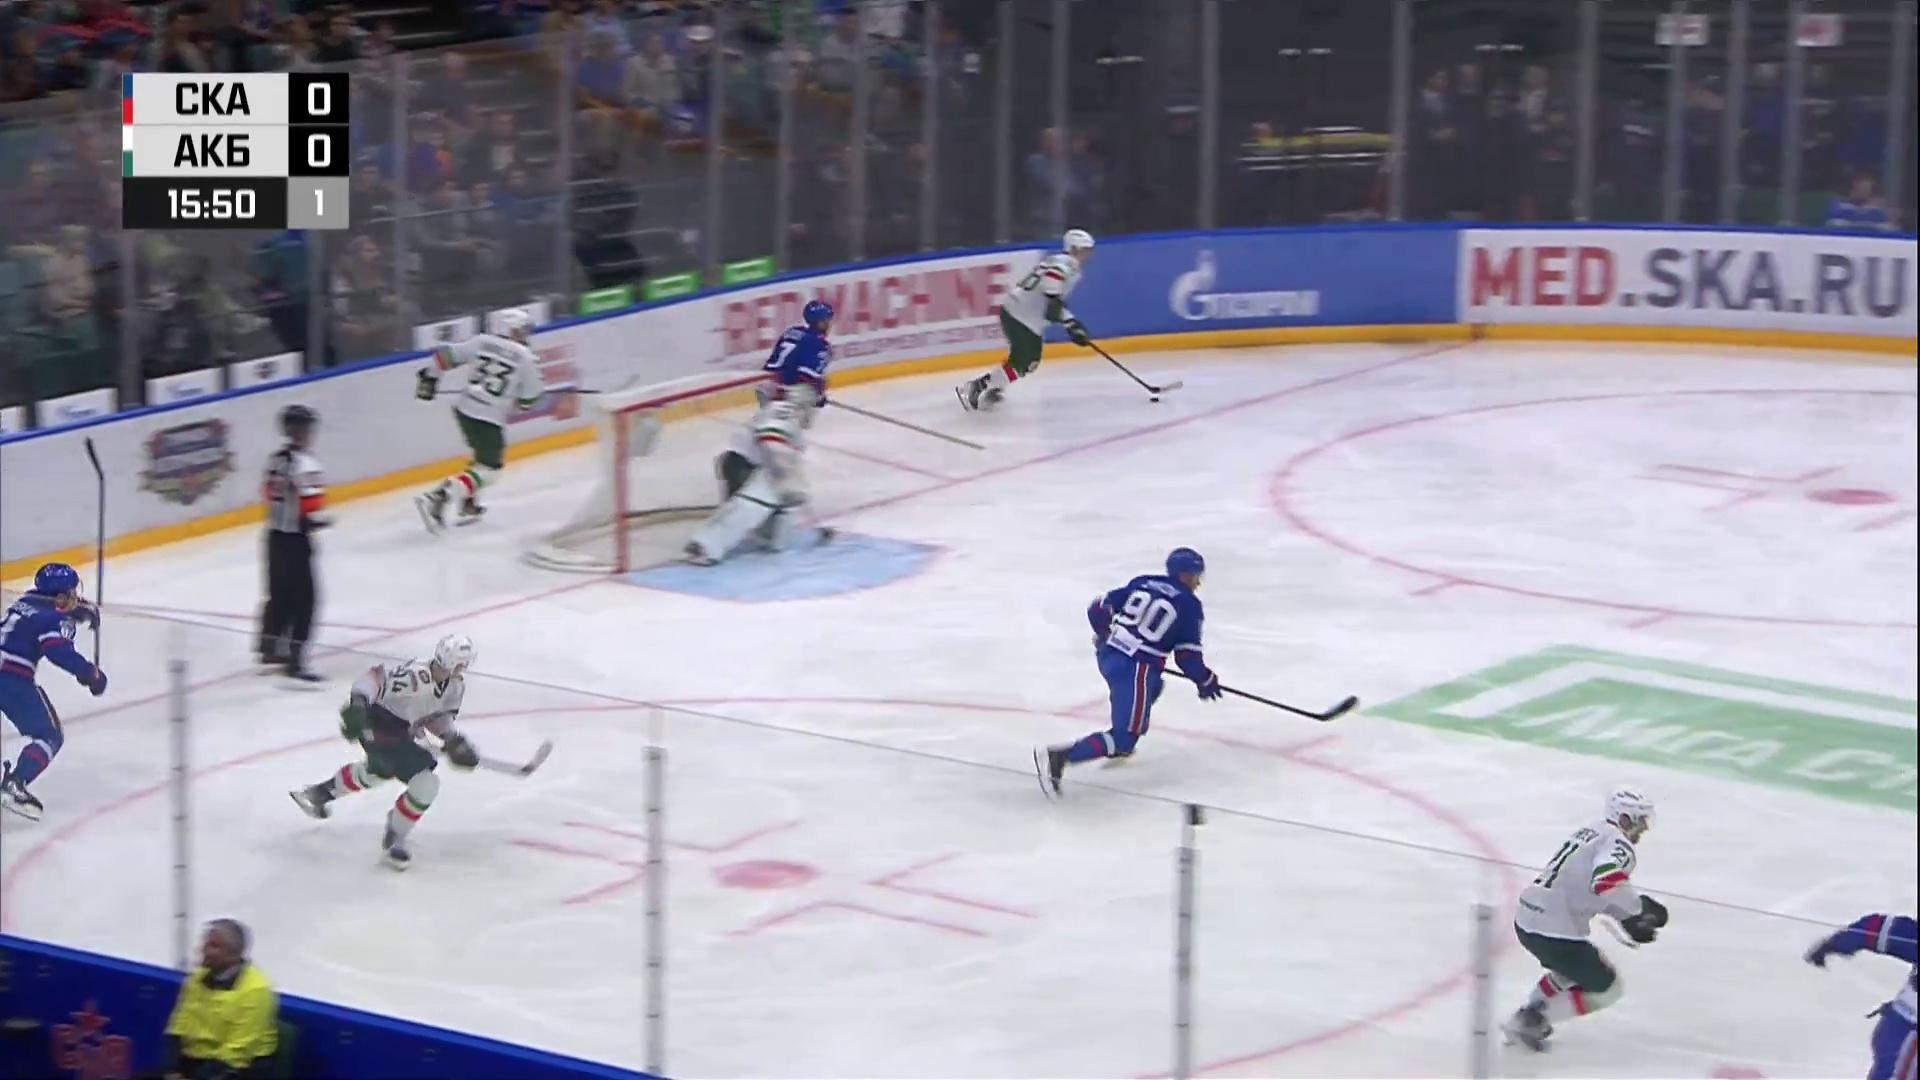ball: (1150, 397, 1159, 404)
